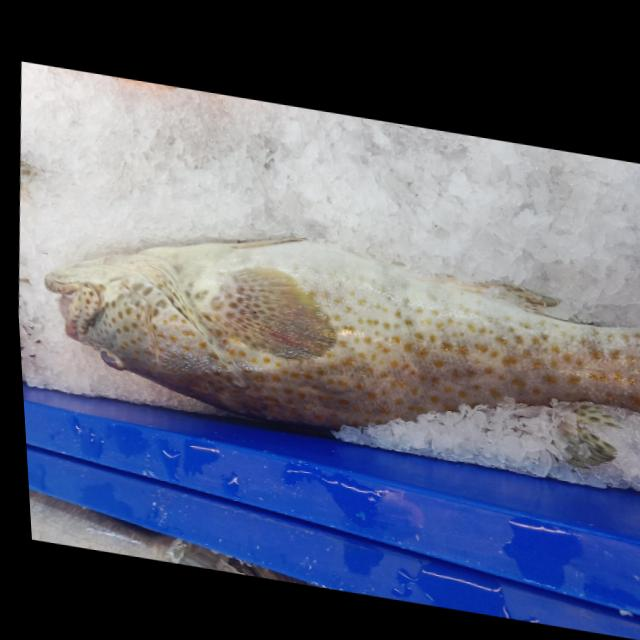Groupers: (30, 195, 640, 484)
